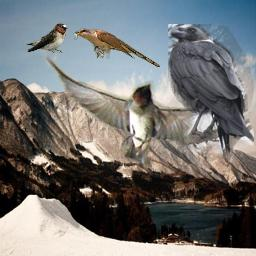Crow: (168, 24, 254, 160)
Cuckoo: (72, 28, 160, 67)
Swallow: (42, 53, 240, 172), (26, 22, 69, 53)
